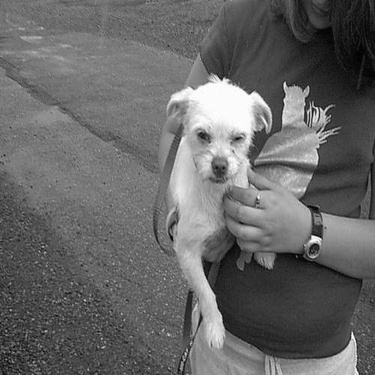dog: (153, 66, 282, 353), (230, 69, 322, 274)
